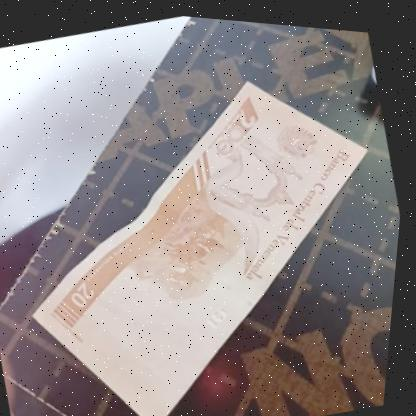twenty-back-vef: (0, 30, 414, 416)
